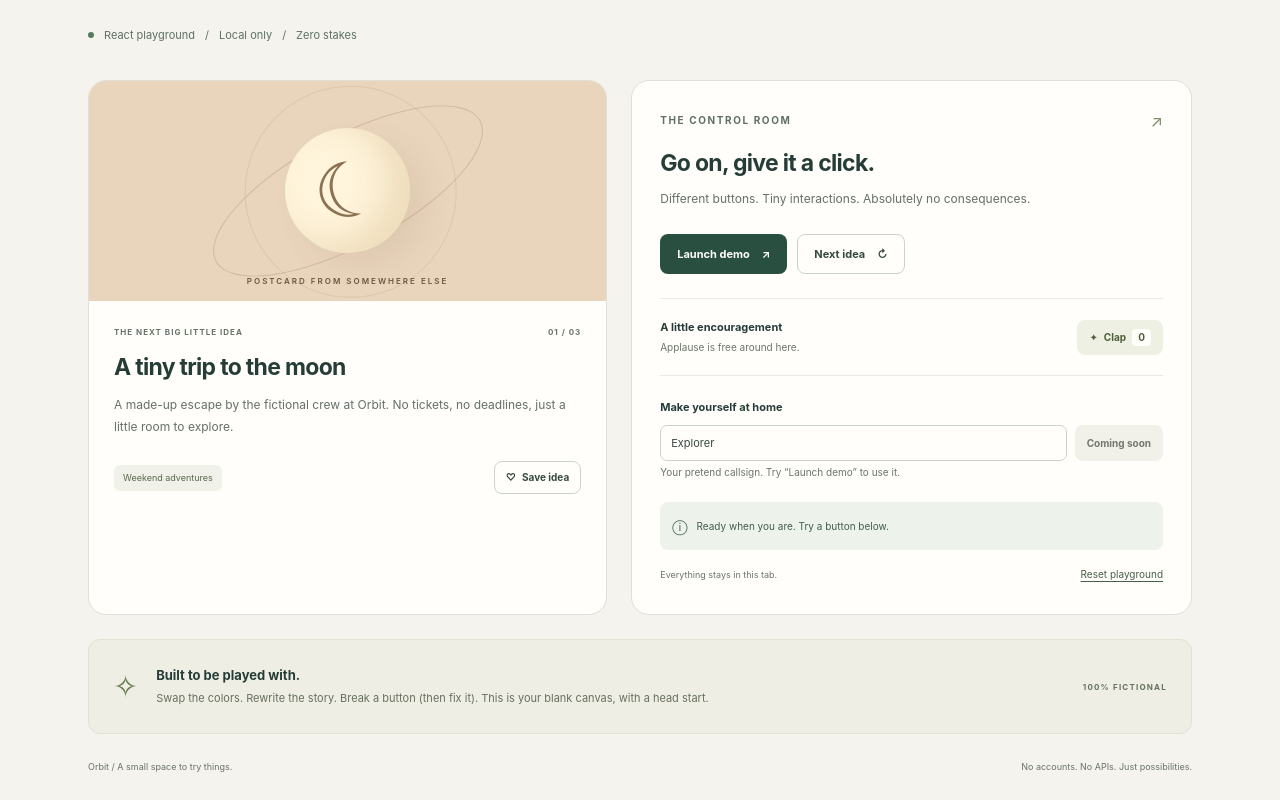
Test case: Orbit playground › launches with a custom callsign and visible local-only feedback
(page scrolled)
Replace the text in the field with "Nova". click: (863, 443)
box: [660, 425, 1067, 461]
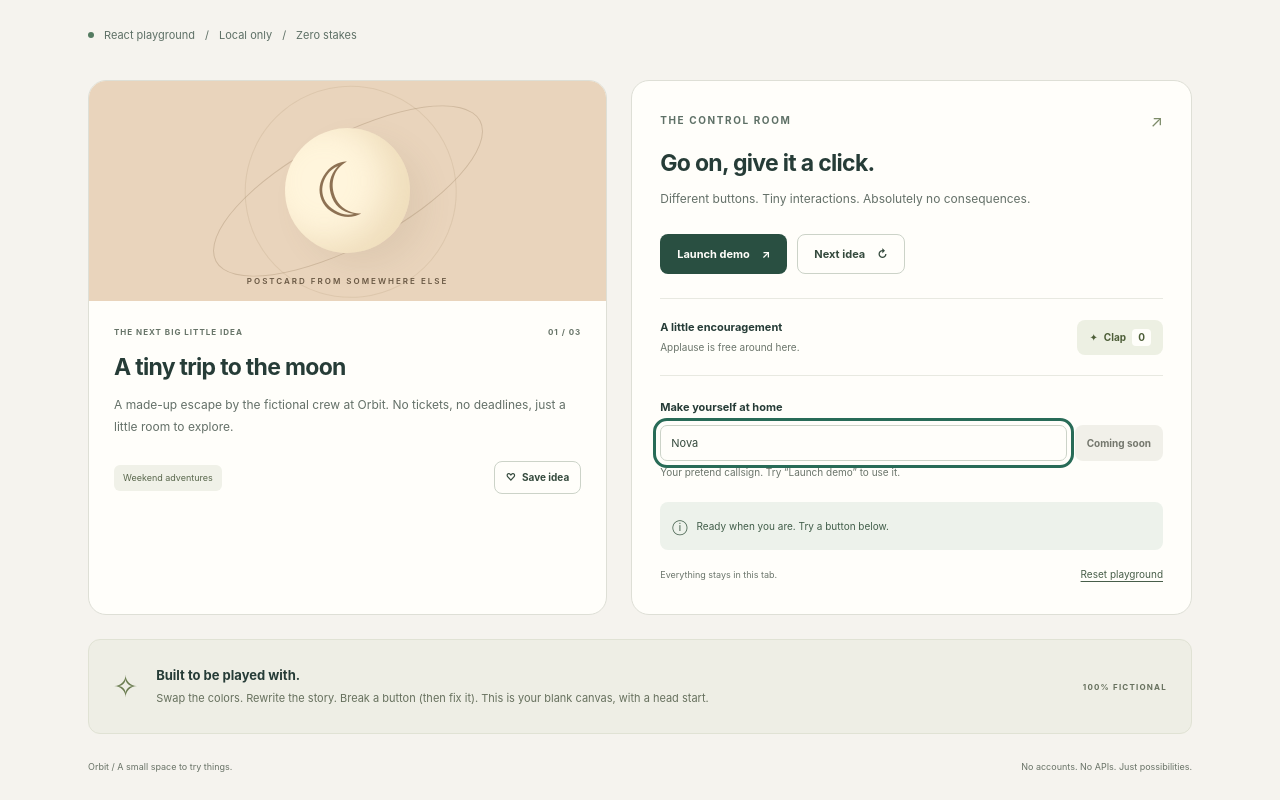
Click the button "Launch demo ↗". click: click(724, 254)
box: [660, 234, 787, 274]
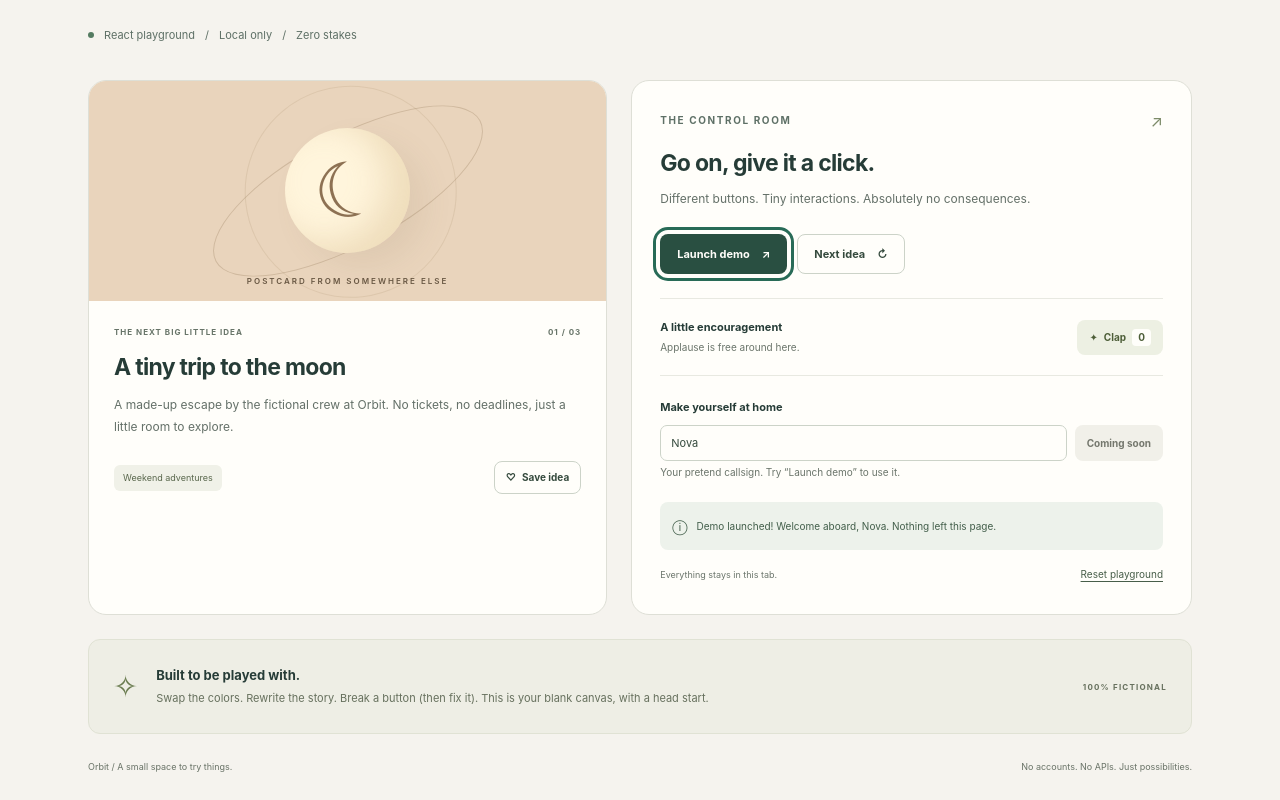
Expected: the message shows "Welcome aboard, Nova. Nothing left this page.", [696, 520, 996, 532]
